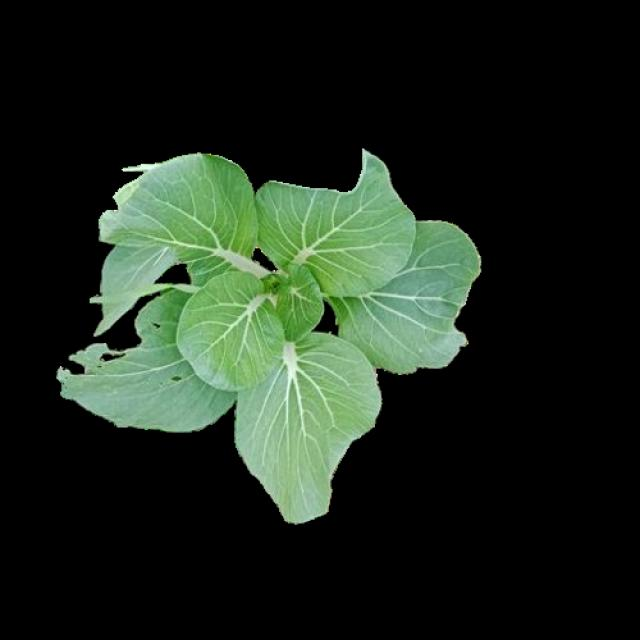not-mature: (60, 151, 476, 525)
unhealthy: (94, 158, 258, 336), (67, 287, 233, 429)
